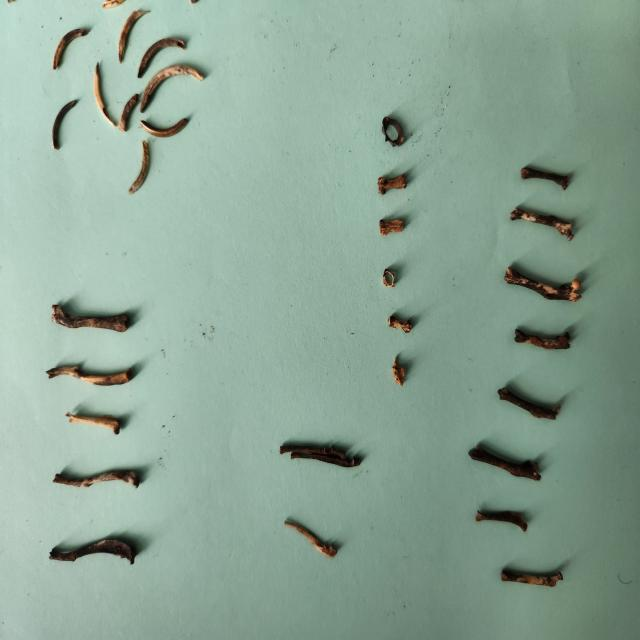fossil: (466, 438, 548, 489), (46, 532, 140, 574), (501, 261, 586, 307), (139, 61, 209, 116), (48, 298, 134, 342), (43, 357, 141, 394), (48, 461, 150, 495), (506, 202, 583, 244), (495, 383, 567, 425), (280, 516, 342, 563), (136, 34, 190, 82), (497, 560, 568, 593), (115, 7, 154, 67), (512, 321, 574, 357), (471, 502, 536, 536), (50, 25, 94, 74), (63, 407, 127, 439), (49, 96, 82, 154), (92, 58, 118, 131), (518, 159, 575, 192), (125, 138, 153, 198), (289, 450, 367, 470), (277, 439, 349, 460), (138, 115, 193, 142), (379, 113, 411, 150), (375, 168, 412, 200), (117, 90, 142, 136), (384, 309, 417, 338), (377, 214, 410, 240), (390, 350, 409, 391), (378, 262, 398, 292)
